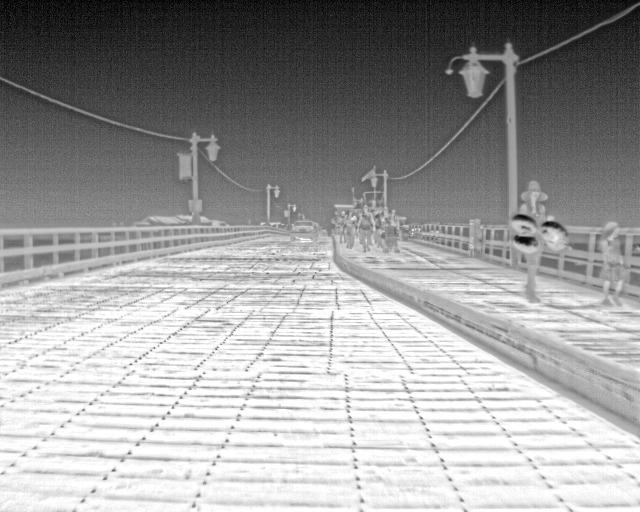bicycle: (290, 220, 318, 241)
empty: (520, 181, 547, 298), (601, 219, 625, 303), (373, 207, 391, 250), (357, 206, 374, 250), (342, 210, 359, 248)
